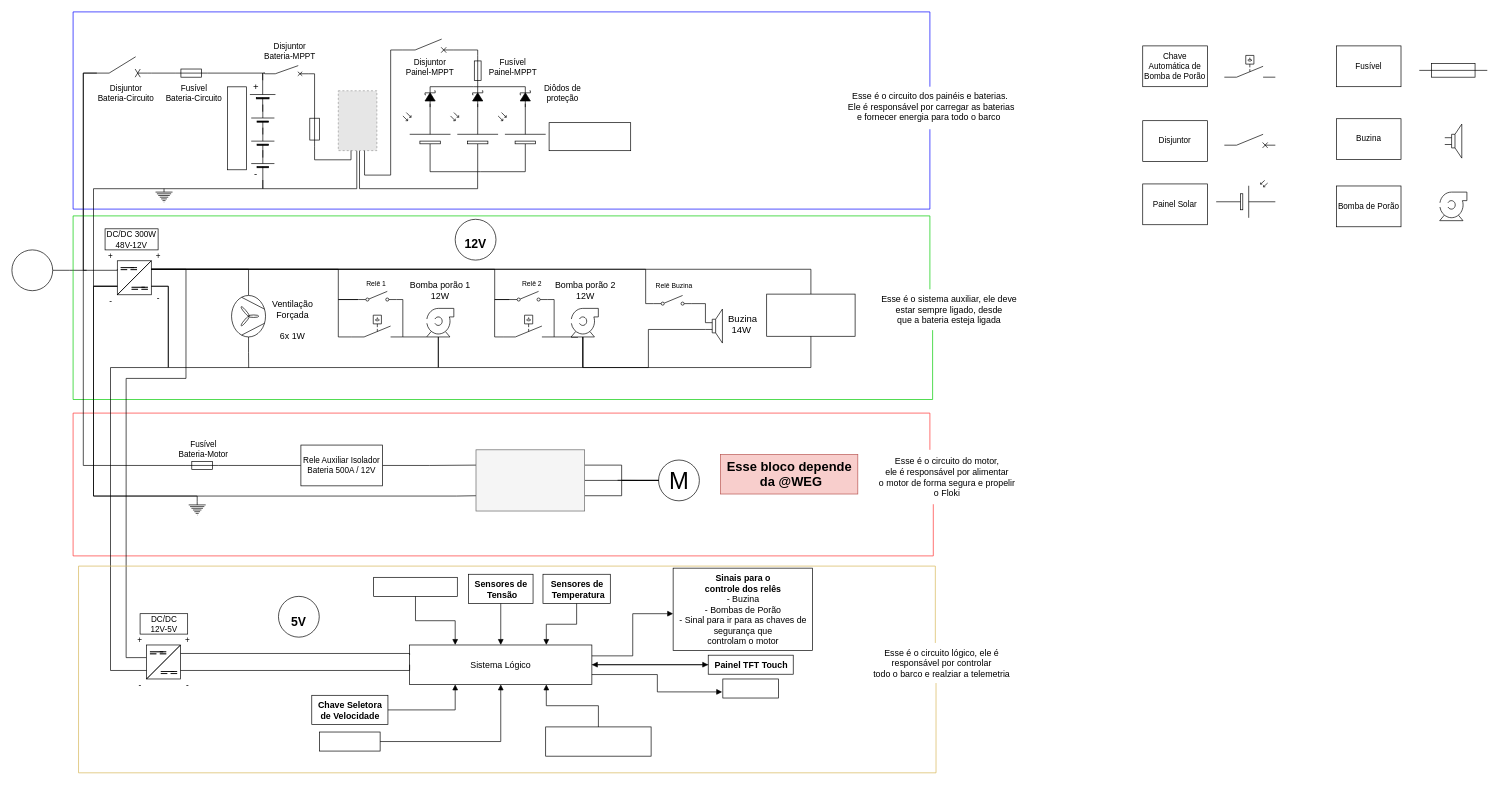
This 1499x785 diagram has some shape labels left out. Grey dashed boxes stand in for pictures. The shapes that lost their labels are listed below. From the top down, each one's centre as x and y in pixels, then its label:
At point (237, 128): "Banco de Baterias".
At point (314, 128): "Fusível Bateria-MPPT".
At point (589, 136): "Módulos Solares".
At point (32, 270): "48V".
At point (810, 314): "Radio VHF 25 W".
At point (530, 480): "Inversor WEG".
At point (415, 586): "Painel de Botões".
At point (750, 688): "Telemetria".
At point (349, 741): "Ajuste Fino".
At point (598, 741): "Inteface com o Controlador de Carga".
